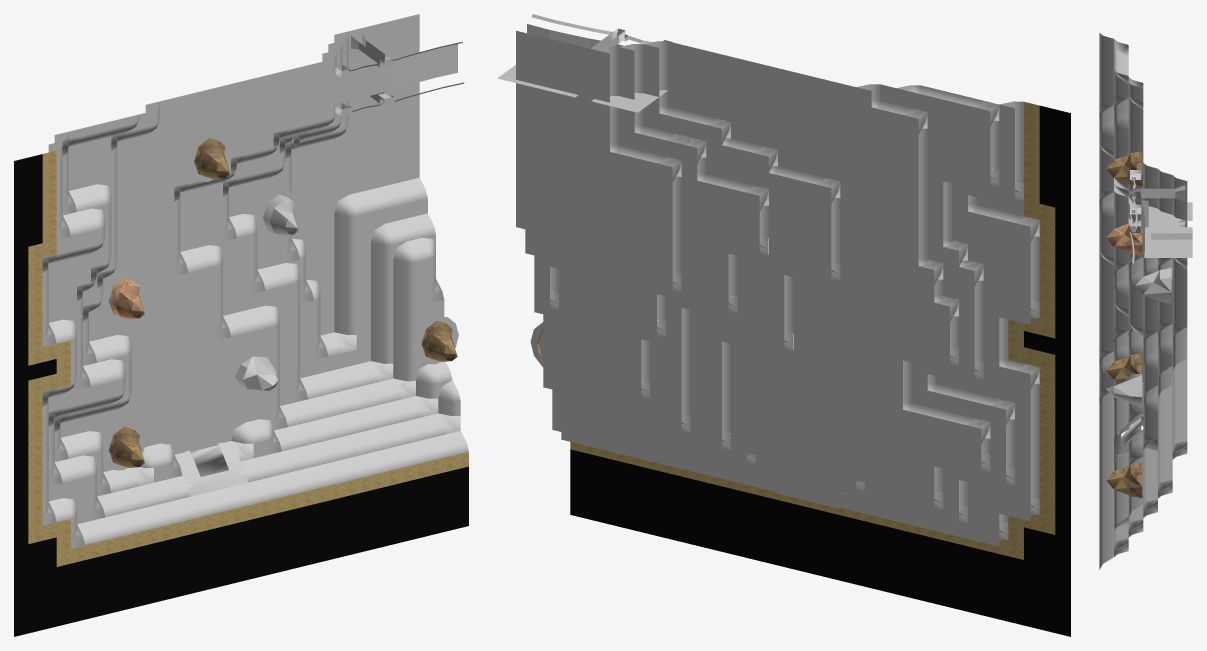
The model's file is Navel-Cave-West-1_00_01.obj.
3 renders of one model, left to right at view 1: azimuth 30°, elevation 25°; view 2: azimuth 150°, elevation 25°; view 3: azimuth 270°, elevation 25°, orthographic. The views are drawn at different scales.
Visible parts, largest first — view 1: map; view 2: map; view 3: map.
Part boxes in pixels (left/top/right/bottom): map: left=14, top=14, right=468, bottom=636; map: left=497, top=14, right=1070, bottom=636; map: left=1099, top=33, right=1192, bottom=569.
Size of the model in its own units: 33 by 32 by 6.38.
